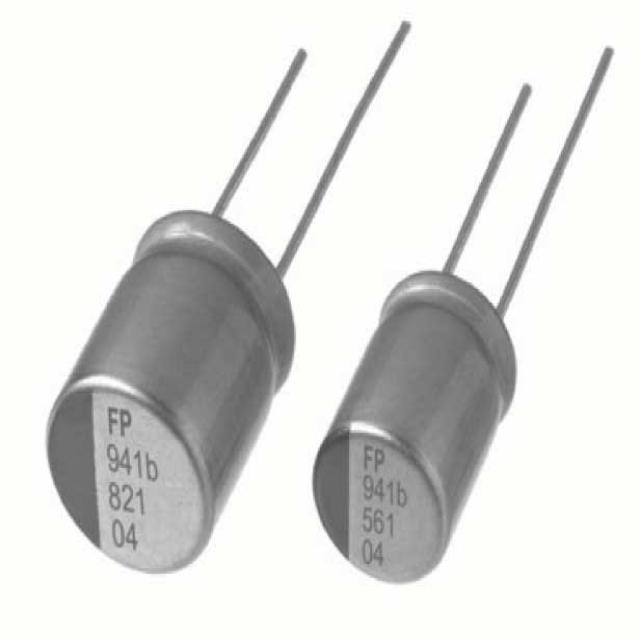Capacitor: (46, 21, 411, 578), (312, 45, 616, 586)
